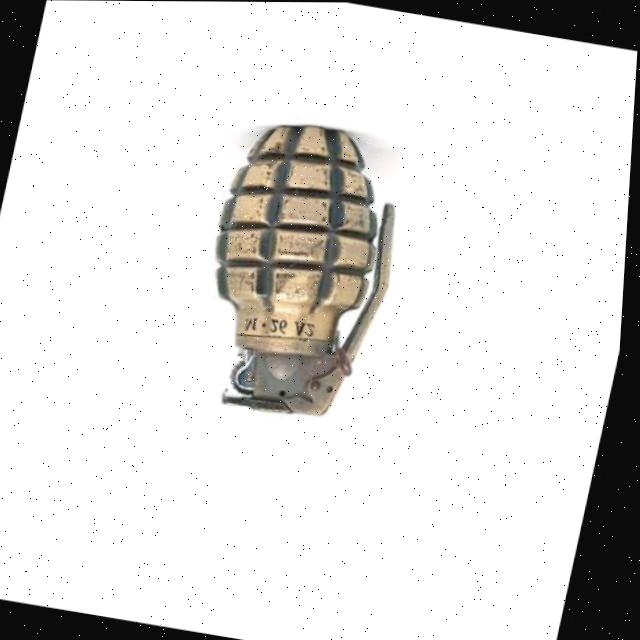grenade: (164, 103, 444, 447)
